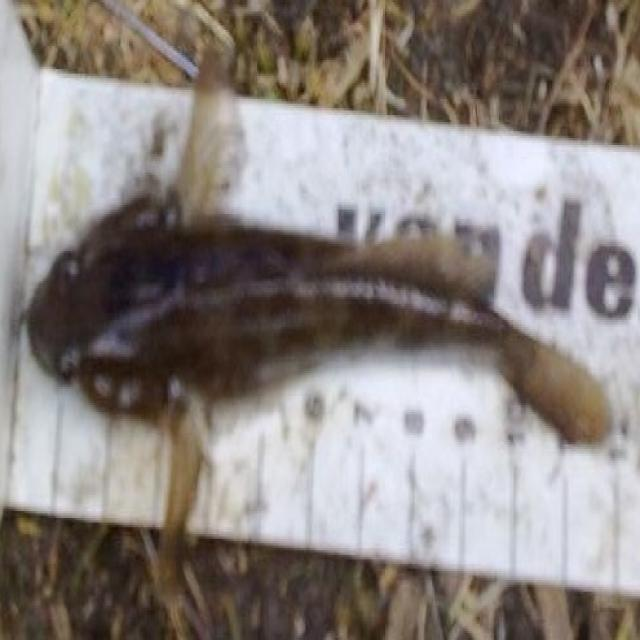Goby: (0, 47, 609, 594)
